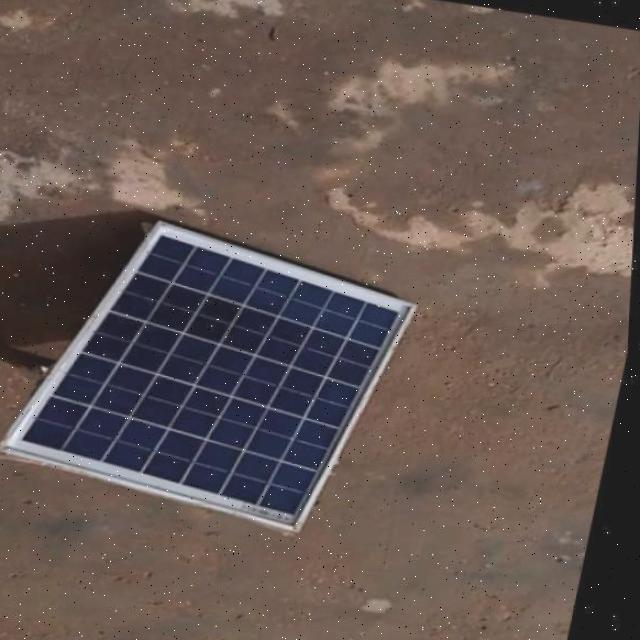Normal Solar Panel: (0, 200, 432, 542)
